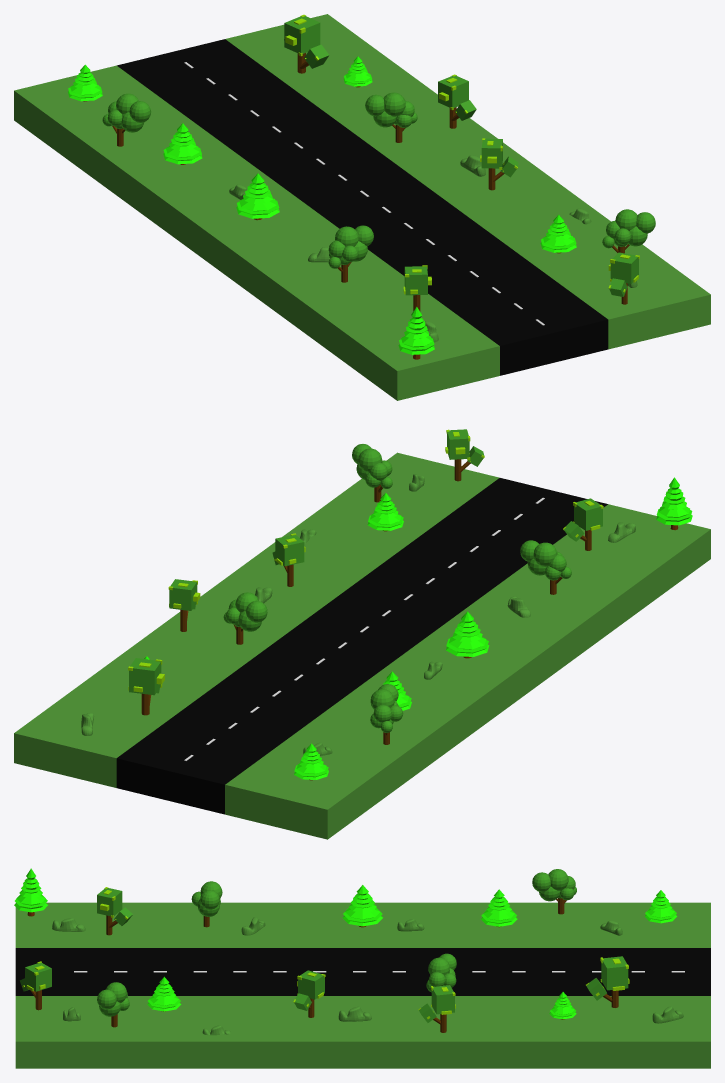
File: country_side_road_seamless.glb
The picture shows the model from 3 angles, top to bottom: view 1: azimuth 30°, elevation 25°; view 2: azimuth 150°, elevation 25°; view 3: azimuth 270°, elevation 25°; orthographic projection. The views are drawn at different scales.
Visible parts, largest first — view 1: Cube_39c421, Cube_b6566e, Cube.003_cd3d8d, Cylinder.004, Cylinder.017_95a0b1, Cube.004_6acc4f, Cylinder.007_0f8cf1, Cube.002_b2f085, Cylinder.003_fd534b, Cylinder.006_6ea998, Cube.001_a04c91, Cube.010_c51067; view 2: Cube_39c421, Cube_b6566e, Cylinder.004, Cylinder.017_95a0b1, Cube.010_c51067, Cube.003_cd3d8d, Cylinder.003_fd534b, Cube.002_b2f085, Cylinder.006_6ea998, Cube.001_a04c91, Cube.004_6acc4f; view 3: Cube_39c421, Cube_b6566e, Cube.003_cd3d8d, Cylinder.004, Cylinder.017_95a0b1, Cylinder.007_0f8cf1, Cube.001_a04c91, Cube.004_6acc4f, Cube.010_c51067, Cylinder.003_fd534b, Cylinder.006_6ea998, Cube.002_b2f085 (+6 smaller).
Part boxes in pixels (left/top/right/bottom): Cube_39c421: left=14, top=14, right=710, bottom=400; Cube_b6566e: left=117, top=39, right=608, bottom=375; Cube.003_cd3d8d: left=284, top=16, right=329, bottom=68; Cylinder.004: left=236, top=173, right=279, bottom=218; Cylinder.017_95a0b1: left=398, top=307, right=434, bottom=354; Cube.004_6acc4f: left=438, top=75, right=476, bottom=120; Cylinder.007_0f8cf1: left=163, top=123, right=202, bottom=164; Cube.002_b2f085: left=609, top=252, right=638, bottom=296; Cylinder.003_fd534b: left=540, top=214, right=576, bottom=252; Cylinder.006_6ea998: left=68, top=64, right=102, bottom=101; Cube.001_a04c91: left=481, top=138, right=518, bottom=177; Cube.010_c51067: left=404, top=266, right=427, bottom=295; Cube_39c421: left=14, top=452, right=710, bottom=839; Cube_b6566e: left=116, top=478, right=607, bottom=814; Cylinder.004: left=446, top=611, right=489, bottom=656; Cylinder.017_95a0b1: left=656, top=477, right=692, bottom=525; Cube.010_c51067: left=564, top=498, right=602, bottom=541; Cube.003_cd3d8d: left=129, top=658, right=161, bottom=695; Cylinder.003_fd534b: left=367, top=493, right=403, bottom=530; Cube.002_b2f085: left=447, top=429, right=484, bottom=466; Cylinder.006_6ea998: left=294, top=743, right=328, bottom=779; Cube.001_a04c91: left=272, top=535, right=304, bottom=566; Cube.004_6acc4f: left=169, top=579, right=197, bottom=610; Cube_39c421: left=15, top=902, right=710, bottom=1068; Cube_b6566e: left=15, top=948, right=710, bottom=995; Cube.003_cd3d8d: left=586, top=956, right=628, bottom=1000; Cylinder.004: left=342, top=885, right=382, bottom=926; Cylinder.017_95a0b1: left=14, top=868, right=47, bottom=912; Cylinder.007_0f8cf1: left=481, top=889, right=517, bottom=926; Cube.001_a04c91: left=294, top=970, right=324, bottom=1010; Cube.004_6acc4f: left=419, top=985, right=454, bottom=1022; Cube.010_c51067: left=97, top=888, right=132, bottom=925; Cylinder.003_fd534b: left=147, top=976, right=181, bottom=1011; Cylinder.006_6ea998: left=644, top=890, right=677, bottom=923; Cube.002_b2f085: left=19, top=962, right=51, bottom=991.
Size of the model in its own units: 0.8079 by 0.2 by 1.71.
